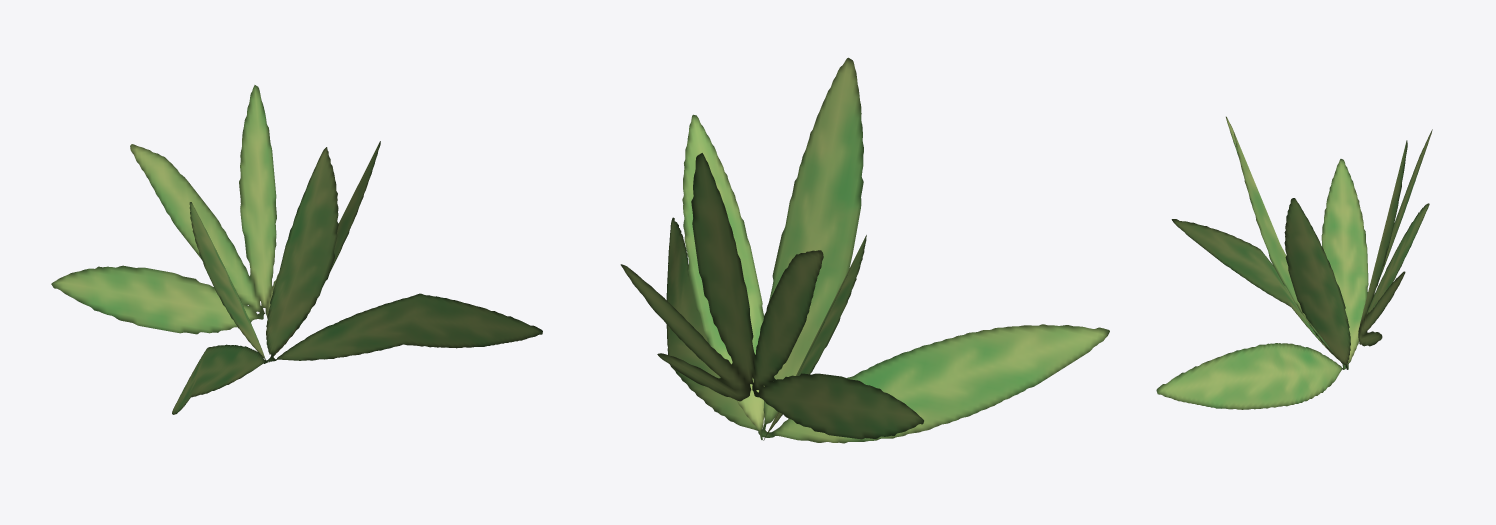
Rendered from LeafSetA_3.fbx.
3 renders of one model, left to right at view 1: azimuth 30°, elevation 25°; view 2: azimuth 150°, elevation 25°; view 3: azimuth 270°, elevation 25°, orthographic. The views are drawn at different scales.
Parts seen in each view (by area): view 1: LeafSetA_3; view 2: LeafSetA_3; view 3: LeafSetA_3.
Part boxes in pixels (box(x1,y1,x2,y2)): LeafSetA_3: box(51, 85, 542, 414); LeafSetA_3: box(620, 57, 1109, 443); LeafSetA_3: box(1156, 116, 1432, 409).
Bounding box in the file's own units: 0.388 × 0.3531 × 0.3208.
